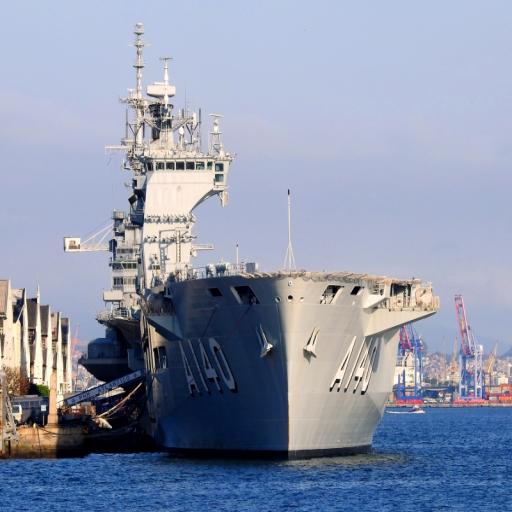Portanaves: (59, 17, 440, 466)
